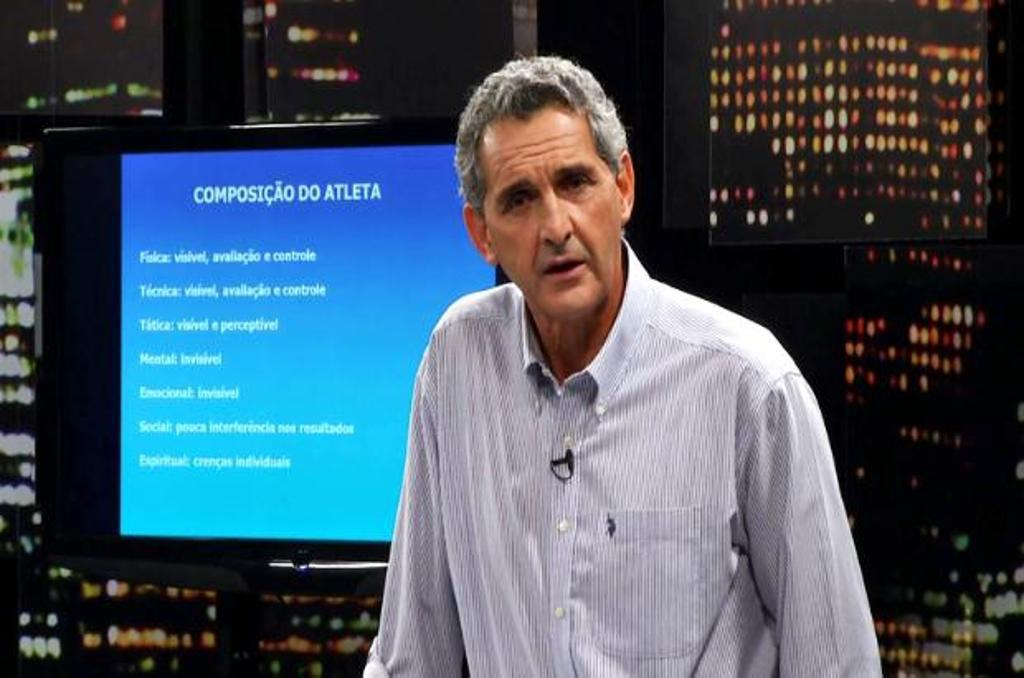face: (481, 107, 625, 317)
